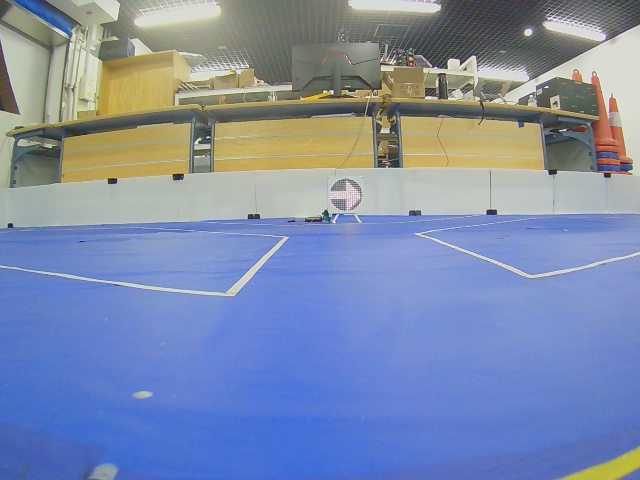right_yellow: (329, 179, 363, 211)
